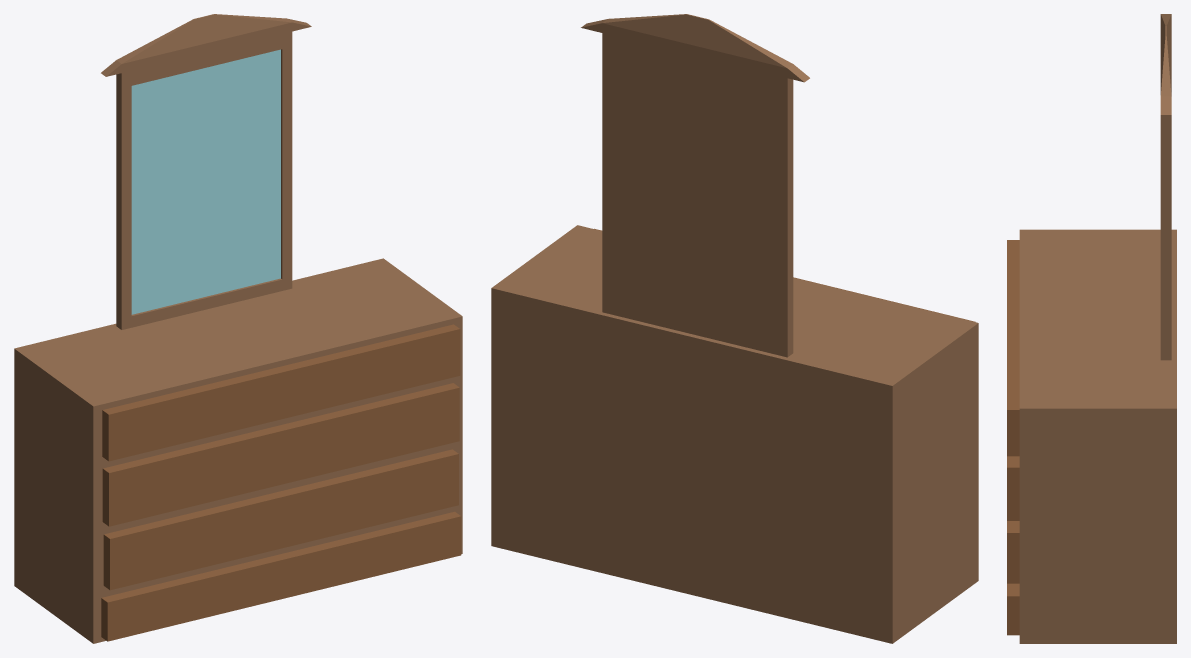
Rendered from dresser.fbx.
The picture shows the model from 3 angles, left to right: view 1: azimuth 30°, elevation 25°; view 2: azimuth 150°, elevation 25°; view 3: azimuth 270°, elevation 25°; orthographic projection. The views are drawn at different scales.
Visible parts, largest first — view 1: Drawers, Dresser, Mirror; view 2: Dresser, Mirror; view 3: Dresser, Drawers, Mirror.
Boxes of the visible parts, x1,y1,x2,y2 form: Drawers: (101, 324, 461, 641); Dresser: (14, 258, 462, 643); Mirror: (101, 14, 311, 329); Dresser: (491, 225, 978, 643); Mirror: (581, 14, 809, 357); Dresser: (1019, 229, 1176, 643); Drawers: (1007, 240, 1019, 635); Mirror: (1160, 14, 1171, 360).
Size of the model in its own units: 748 by 1022 by 300.
